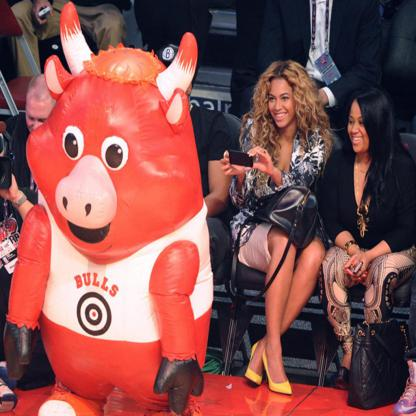face: (26, 94, 59, 145), (269, 80, 298, 129), (348, 103, 374, 154)
